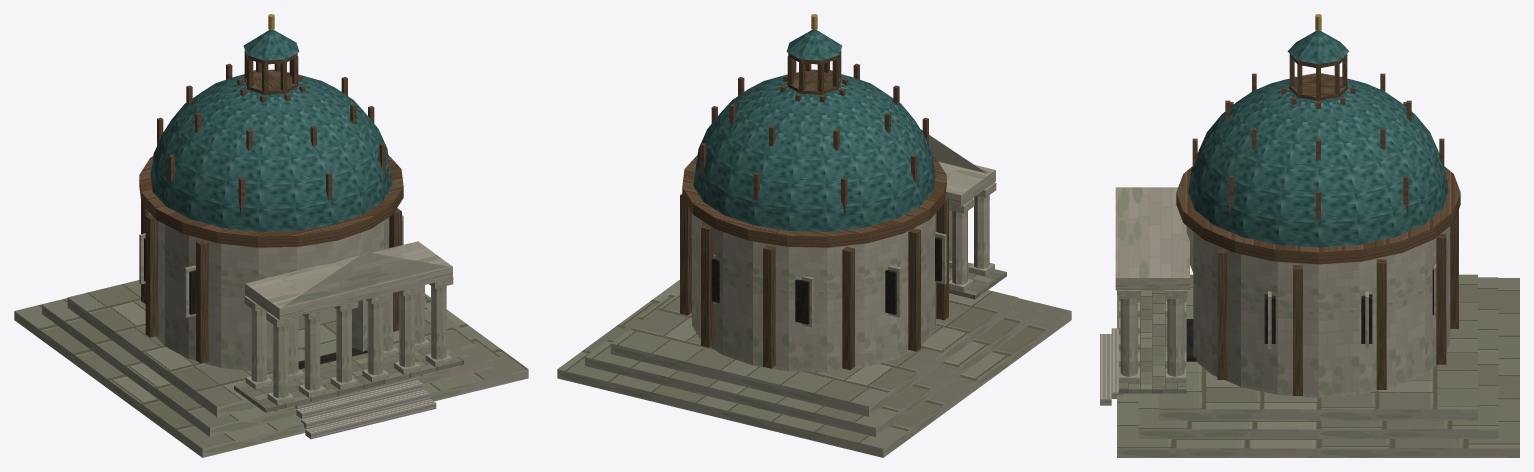
Rendered from temple.glb.
The picture shows the model from 3 angles, left to right: view 1: azimuth 30°, elevation 25°; view 2: azimuth 150°, elevation 25°; view 3: azimuth 270°, elevation 25°; orthographic projection. The views are drawn at different scales.
Parts seen in each view (by area): view 1: ae_forest_dome_temple_lod0; view 2: ae_forest_dome_temple_lod0; view 3: ae_forest_dome_temple_lod0.
Boxes of the visible parts, <box> form: ae_forest_dome_temple_lod0: <box>14,14,528,457</box>; ae_forest_dome_temple_lod0: <box>557,14,1071,457</box>; ae_forest_dome_temple_lod0: <box>1100,14,1519,457</box>.
Size of the model in its own units: 9.87 by 9.66 by 10.29.
Materials: 1 (1 with a texture image).
